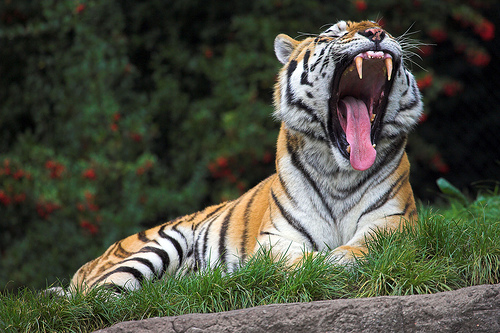Tigre: (263, 24, 430, 274)
